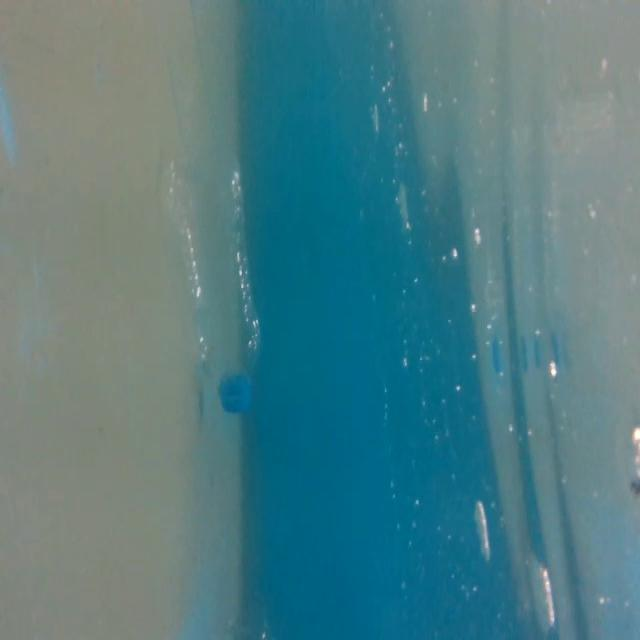plastic bottle: (157, 138, 269, 417)
